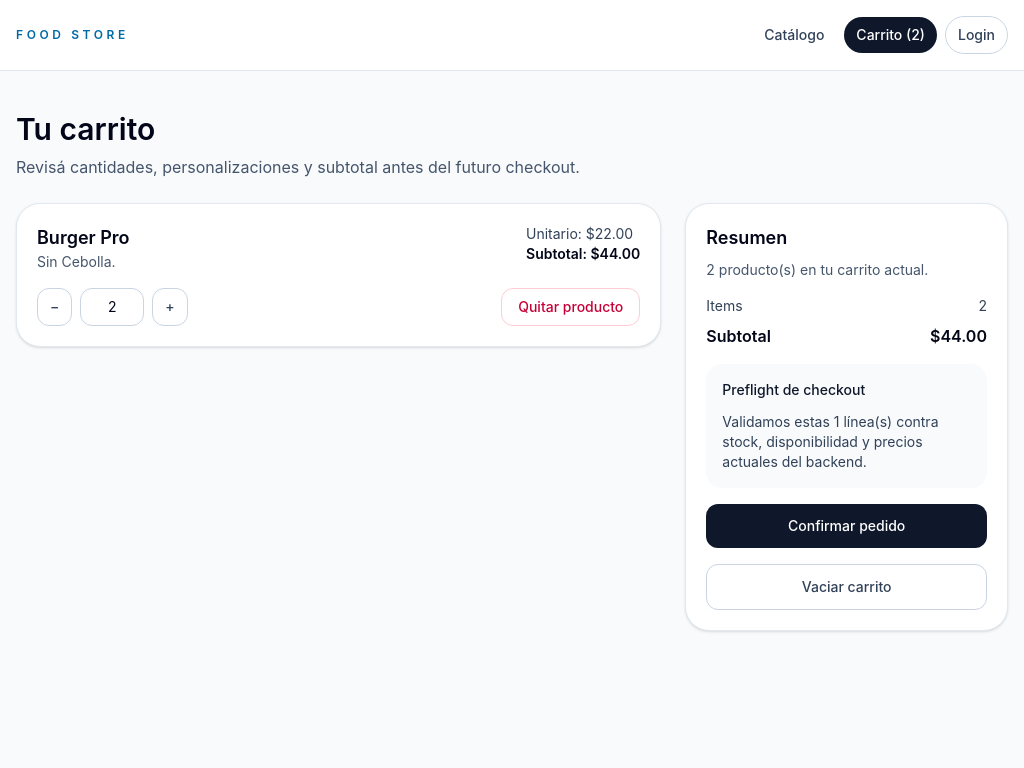
Test: CartPage › renders populated cart lines and allows quantity updates, removal, clear and checkout login-gated feedback
The image size is (1024, 768).
Expected: the link "Burger Pro" is shown, [37,227,130,248]
Expected: the text "Sin Cebolla." is shown, [37,252,130,272]
Click the button "+". click: (170, 307)
box: [152,288,188,326]
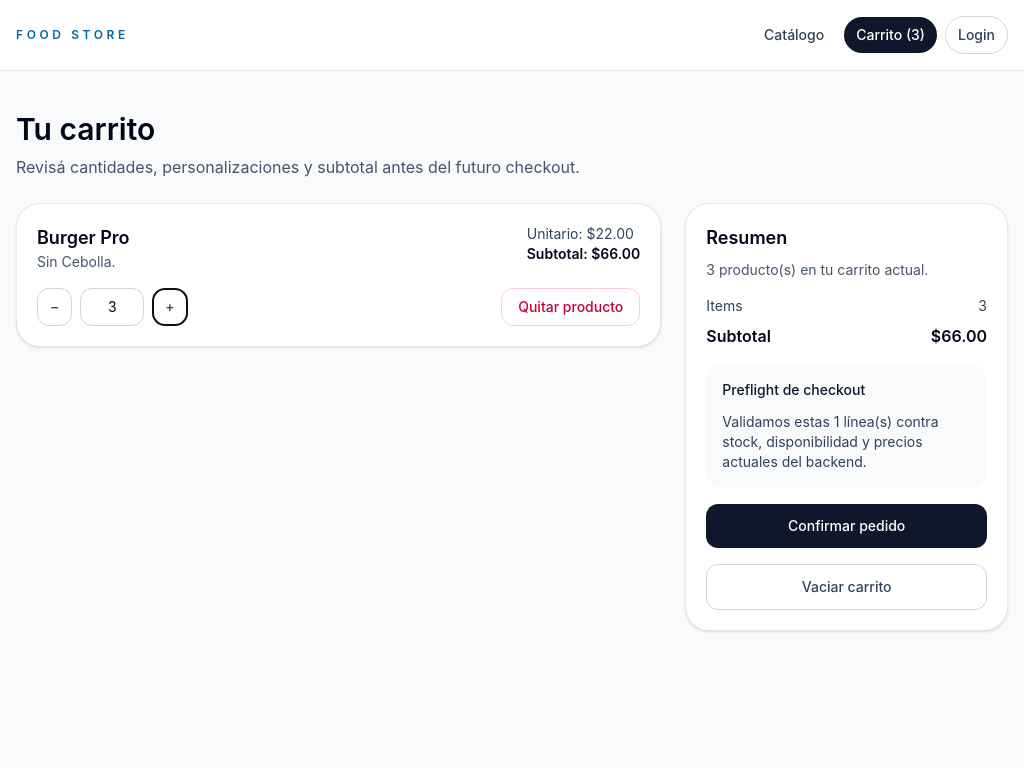
Result: the field named "Cantidad de Burger Pro" holds "3" at [80,288,144,326]
Result: the text "$66.00" is shown at [931,324,987,348]
Click the button "Confirmar pedido". click: (847, 526)
box: [706,504,987,548]
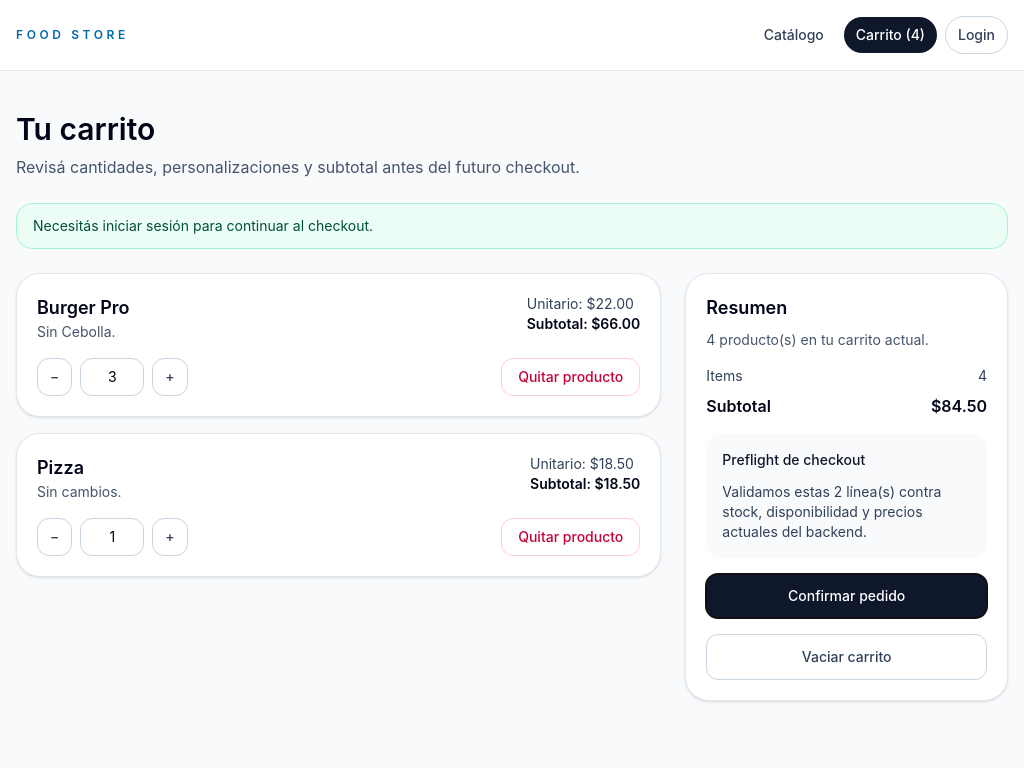
Result: the message reads "Necesitás iniciar sesión para continuar al checkout." at [33,217,373,234]
Result: the link "Pizza" is shown at [37,457,84,478]
Click the button "Vaciar carrito". click: (847, 657)
box: [706,634,987,680]
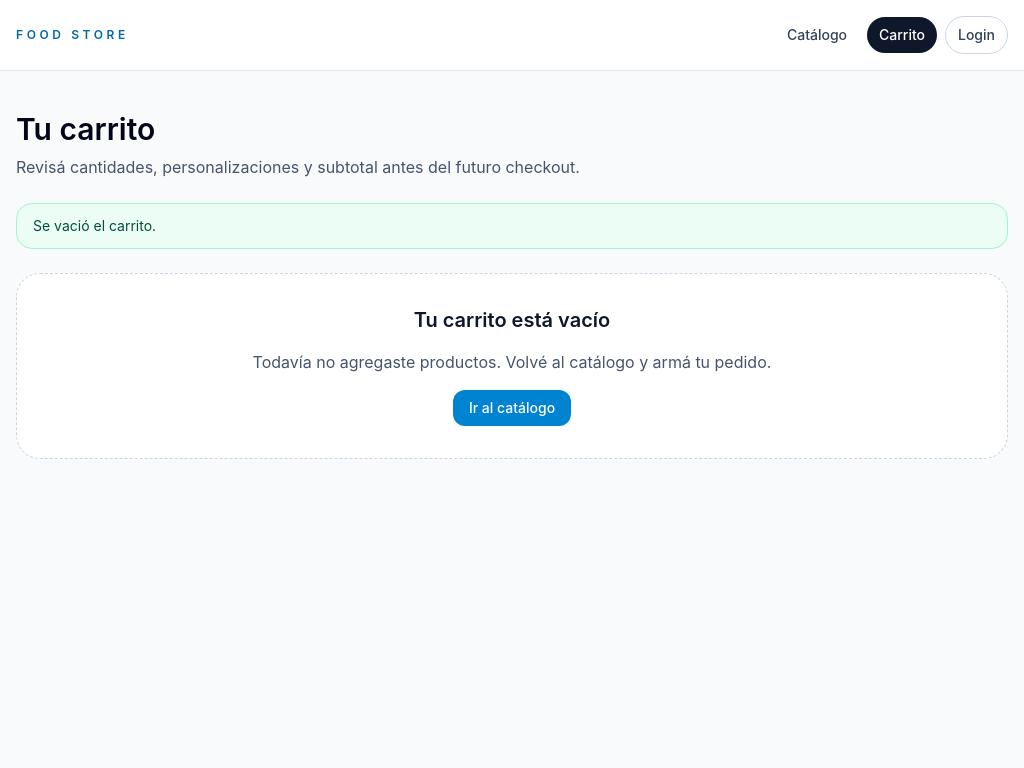
Result: the message reads "Se vació el carrito." at [33,217,156,234]
Result: the heading "Tu carrito está vacío" is shown at [414,308,610,332]
